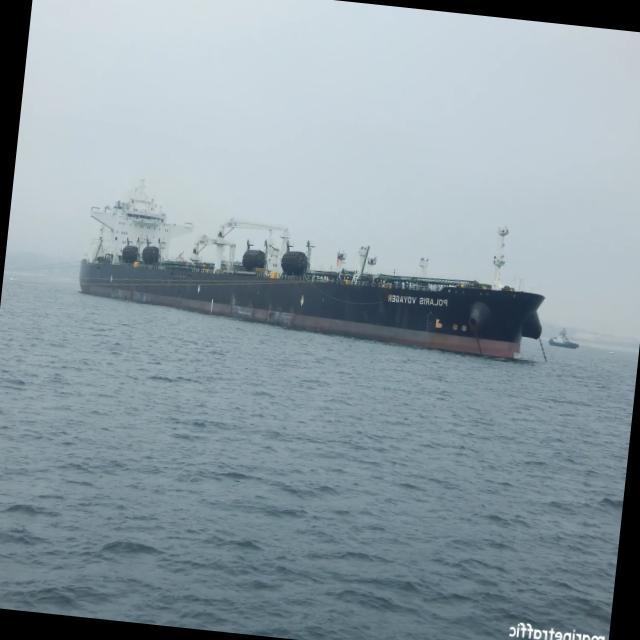Tanker: (79, 182, 544, 357)
